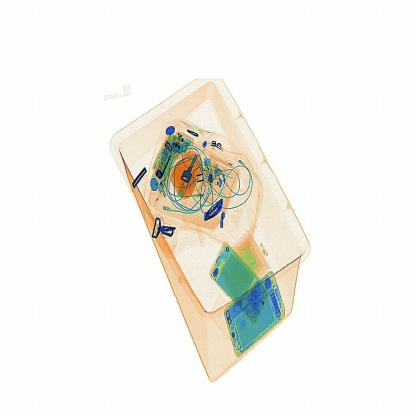knife: (197, 193, 233, 227)
